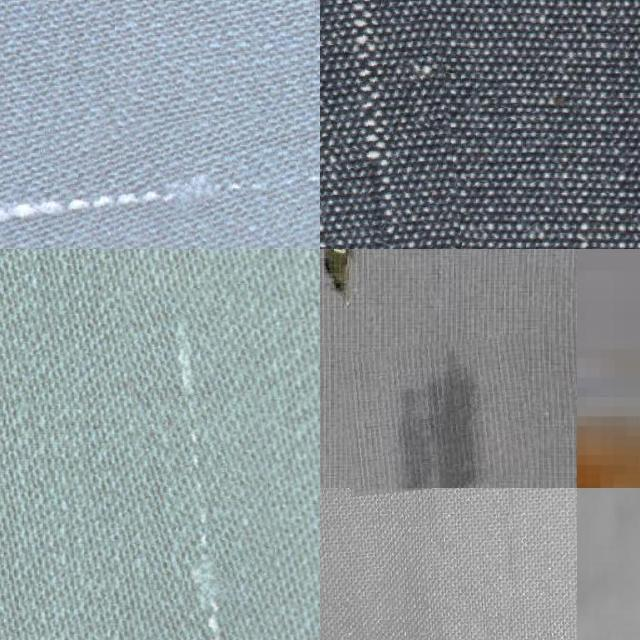Hole: (340, 338, 536, 492), (320, 249, 397, 316)
Thread_other: (133, 285, 286, 640), (0, 100, 320, 249), (320, 0, 452, 249)
